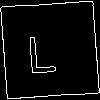L: (25, 25, 57, 74)
